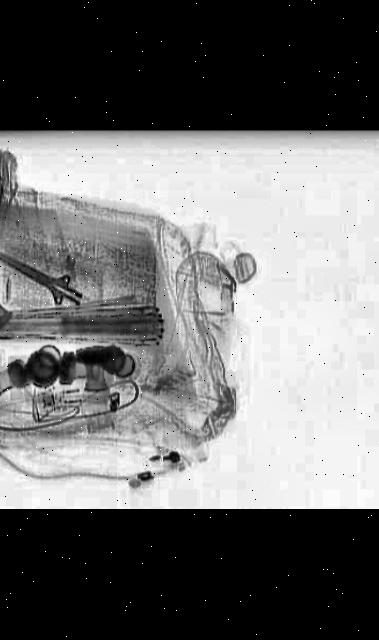Knife: (0, 242, 98, 312)
